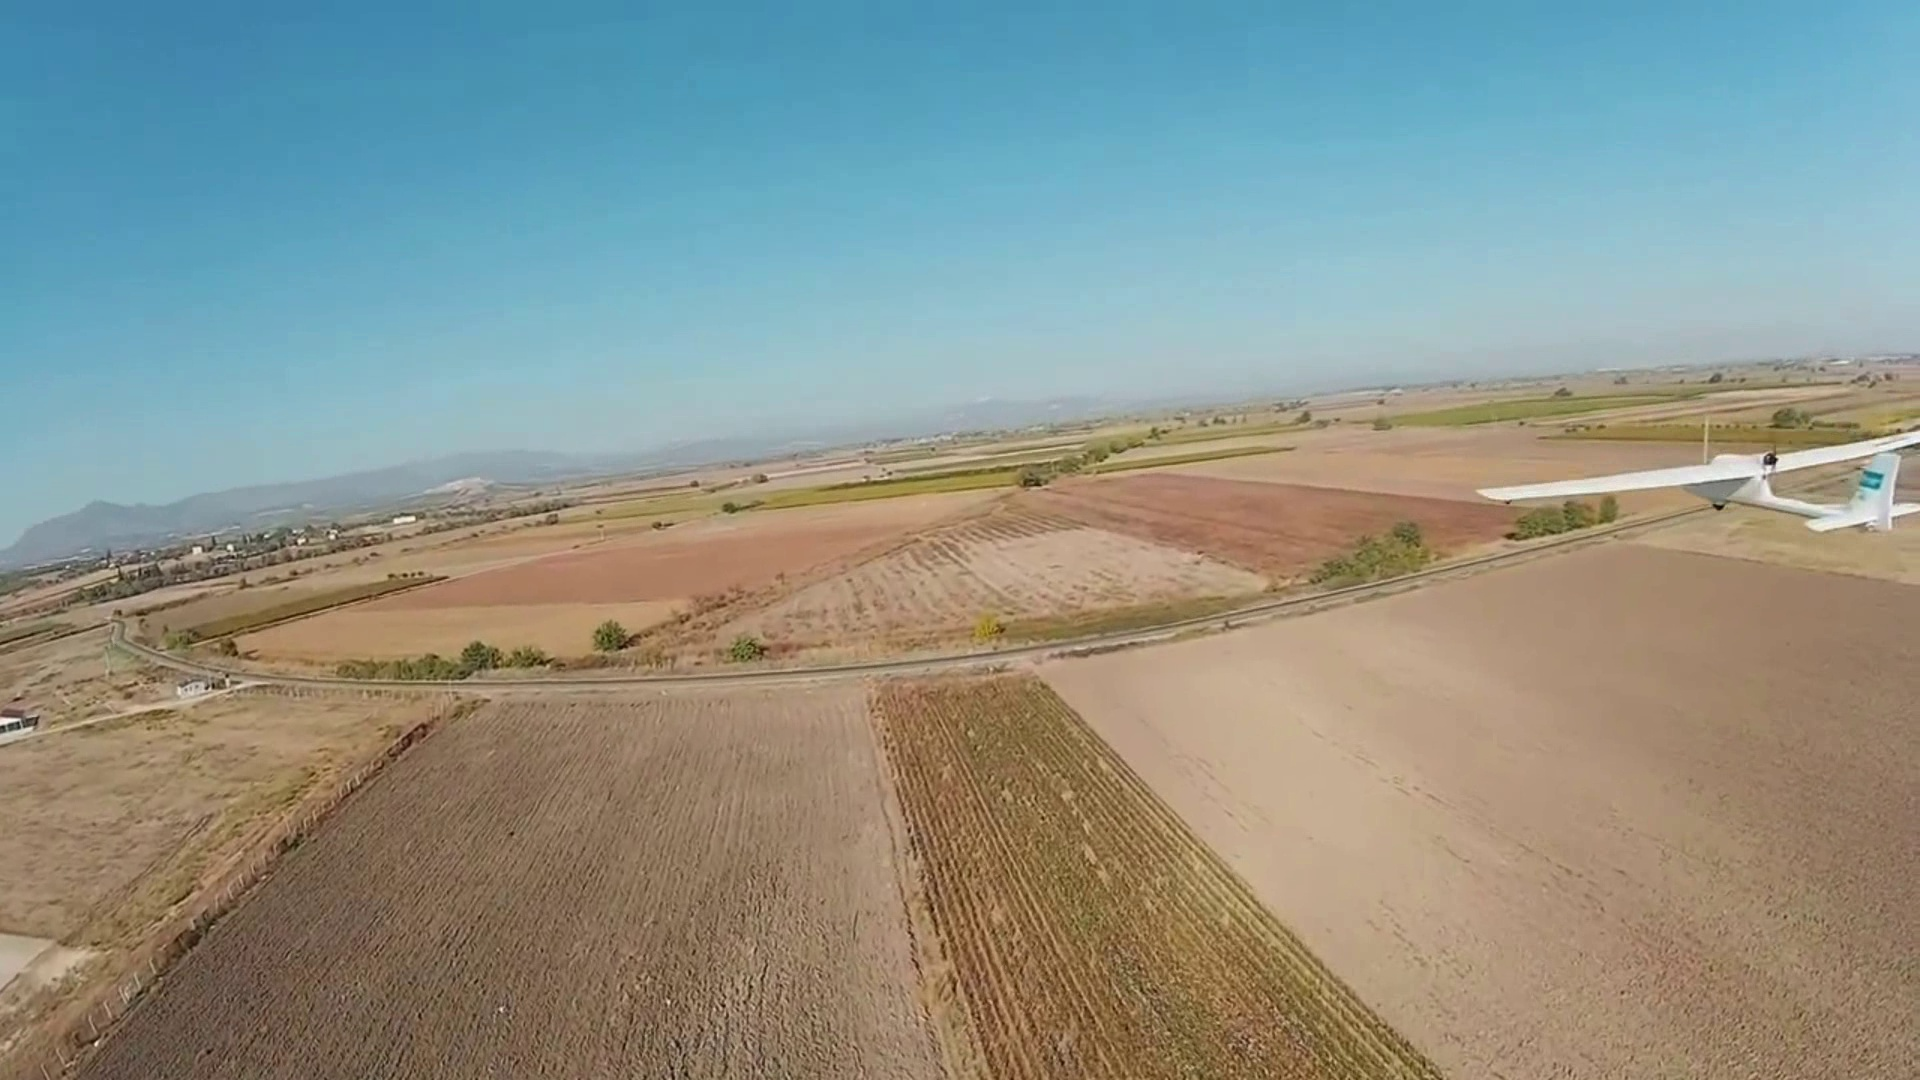airplane: (1477, 425, 1917, 535)
